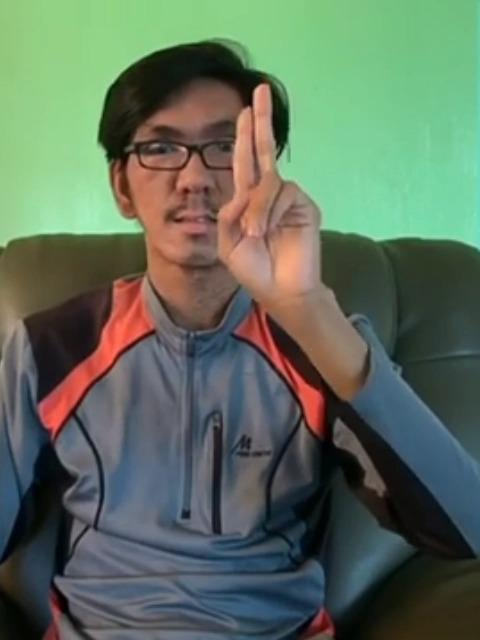U: (213, 76, 331, 310)
